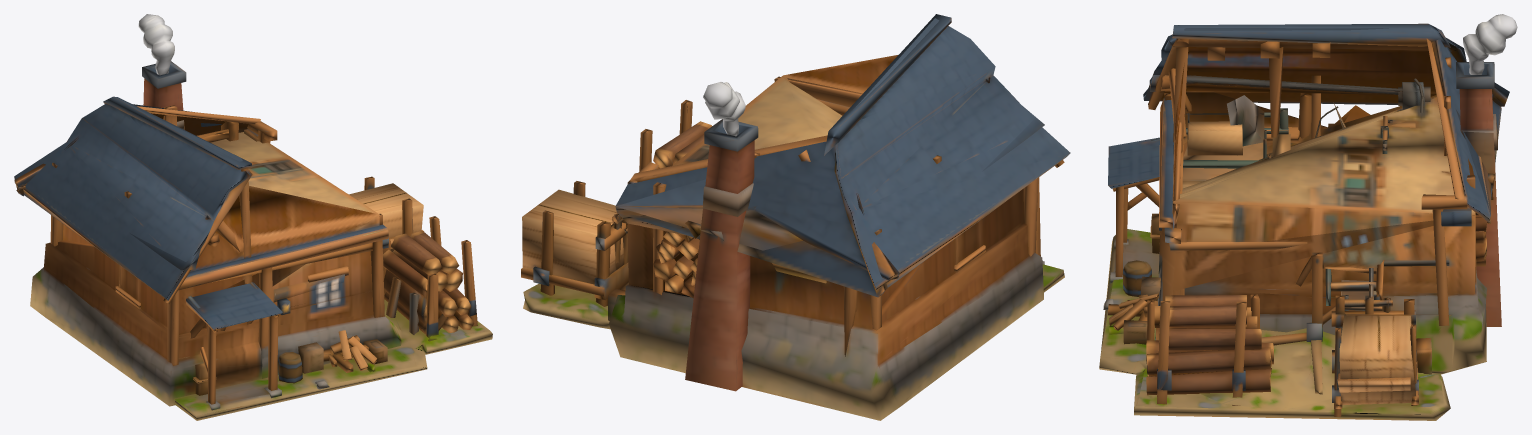
Rendered from sawmill.glb.
The picture shows the model from 3 angles, left to right: view 1: azimuth 30°, elevation 25°; view 2: azimuth 150°, elevation 25°; view 3: azimuth 270°, elevation 25°; orthographic projection. The views are drawn at different scales.
Visible parts, largest first — view 1: geometry_0; view 2: geometry_0; view 3: geometry_0.
Boxes of the visible parts, <box> form: geometry_0: <box>14,14,492,420</box>; geometry_0: <box>521,14,1070,420</box>; geometry_0: <box>1099,14,1517,420</box>.
Bounding box in the file's own units: 0.9517 × 0.6704 × 0.8564.
Materials: 1 (1 with a texture image).
